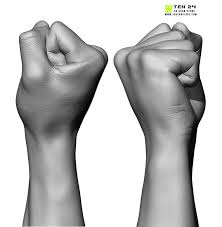fist: (118, 23, 210, 138), (14, 20, 106, 134)
